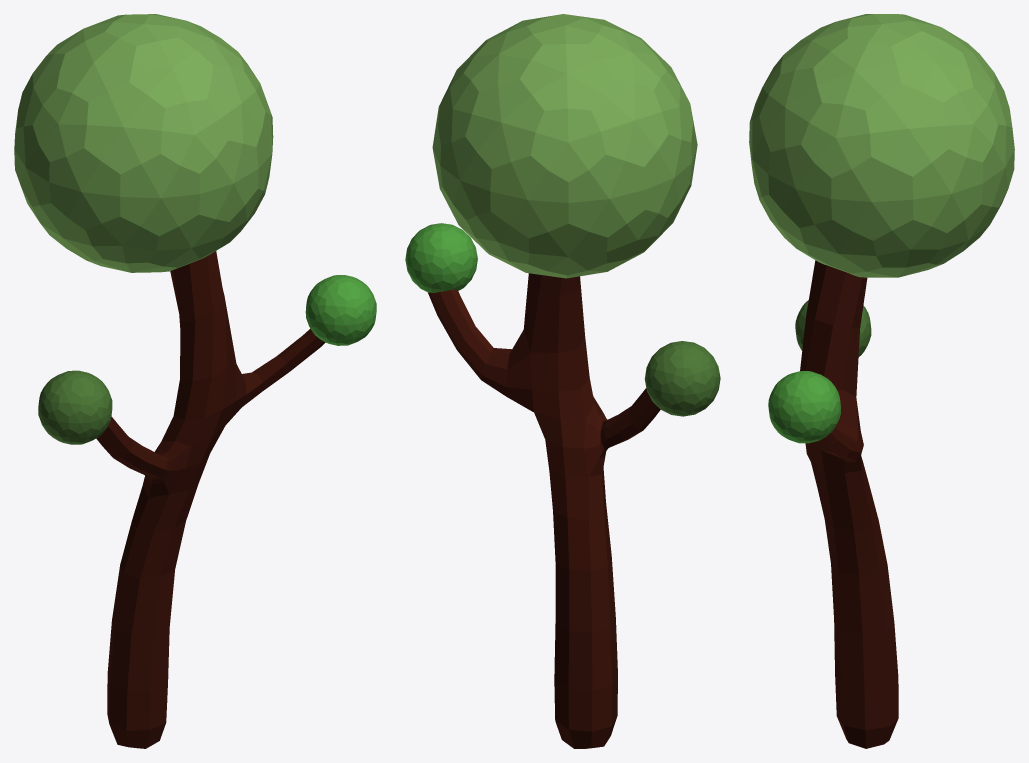
The model's file is tree3.fbx.
3 views of the same model, side by side, from view 1: azimuth 30°, elevation 25°; view 2: azimuth 150°, elevation 25°; view 3: azimuth 270°, elevation 25° (orthographic). The views are drawn at different scales.
Parts seen in each view (by area): view 1: Tree3; view 2: Tree3; view 3: Tree3.
Boxes of the visible parts, left/top/right/bottom form: Tree3: left=14, top=14, right=376, bottom=748; Tree3: left=405, top=14, right=720, bottom=748; Tree3: left=749, top=14, right=1014, bottom=748.
Bounding box in the file's own units: 294 × 638 × 210.
